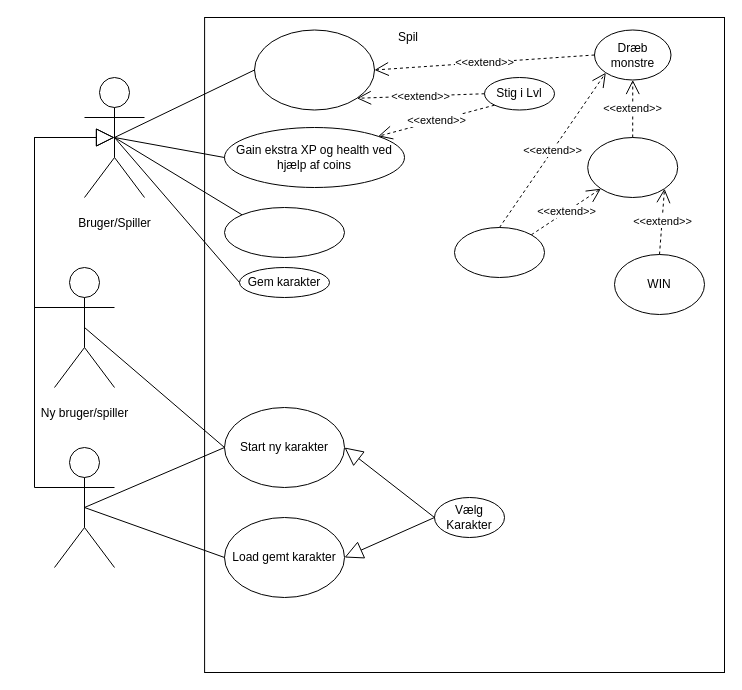
Image size: 742x690. Some labels were removed from this diagram. The centre of each missing label's shape, as x and y in pixels:
Dræb dragon/"Boss": the point at 632,167
Gain XP ved at kæmpe mod monstre: the point at 314,69
GAME OVER: the point at 499,252
Tilbagevendende bruger/spiller: the point at 84,507
Undvig for svære monstre: the point at 284,232
